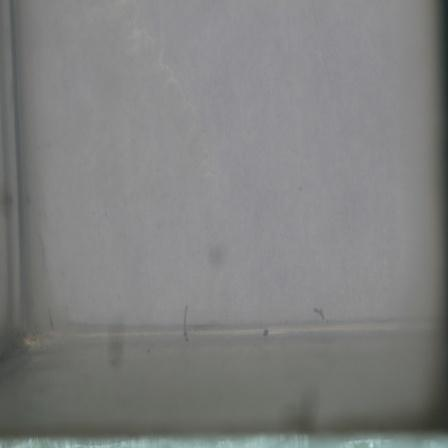Jentik-Nyamuk: (177, 299, 195, 343)
